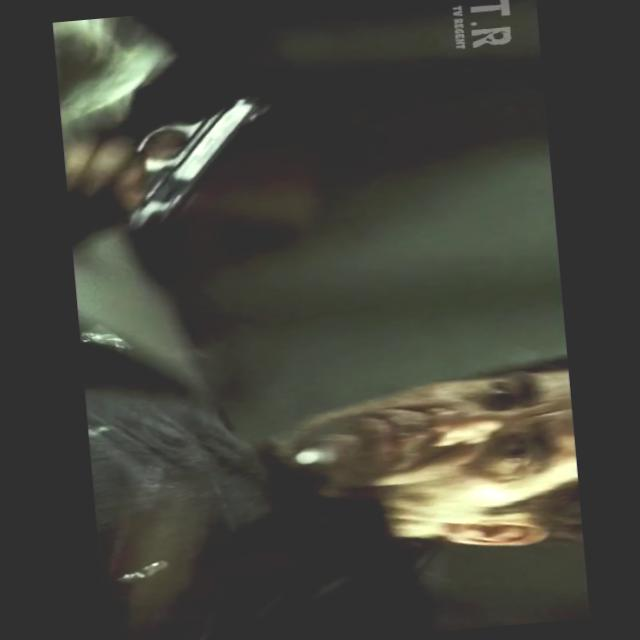handgun: (76, 88, 290, 246)
